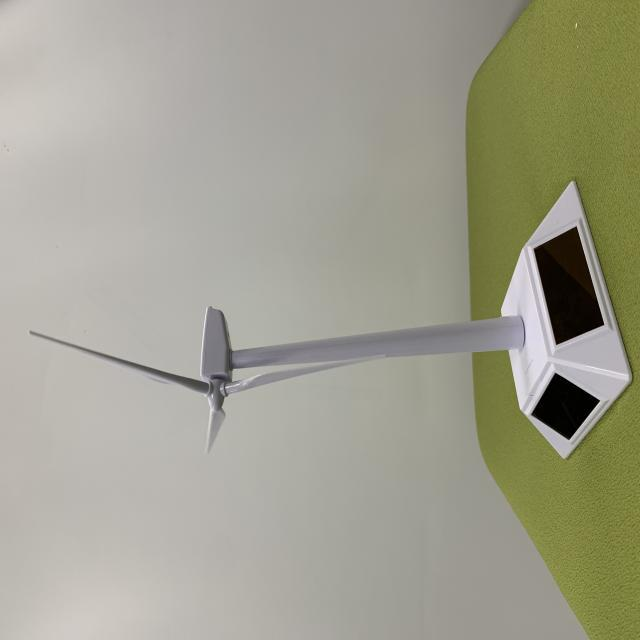solid-blade: (30, 332, 210, 393), (224, 362, 351, 394), (205, 408, 225, 453)
